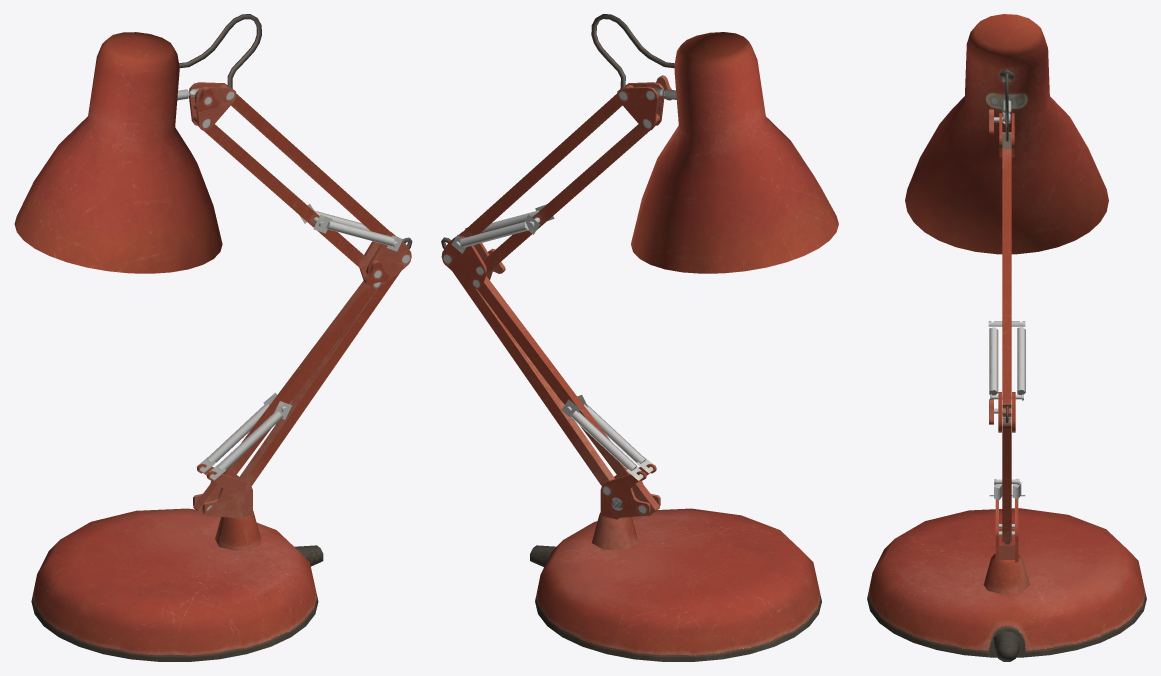
Rendered from SM_Desk_Lamp_01b.fbx.
The picture shows the model from 3 angles, left to right: view 1: azimuth 30°, elevation 25°; view 2: azimuth 150°, elevation 25°; view 3: azimuth 270°, elevation 25°; orthographic projection. The views are drawn at different scales.
Parts seen in each view (by area): view 1: SM_Desk_Lamp_01b_LOD0; view 2: SM_Desk_Lamp_01b_LOD0; view 3: SM_Desk_Lamp_01b_LOD0.
Part boxes in pixels (x1,y1,x2,y2): SM_Desk_Lamp_01b_LOD0: [14, 14, 412, 661]; SM_Desk_Lamp_01b_LOD0: [441, 14, 838, 661]; SM_Desk_Lamp_01b_LOD0: [867, 14, 1146, 661].
Size of the model in its own units: 37.67 by 24.46 by 53.79.
